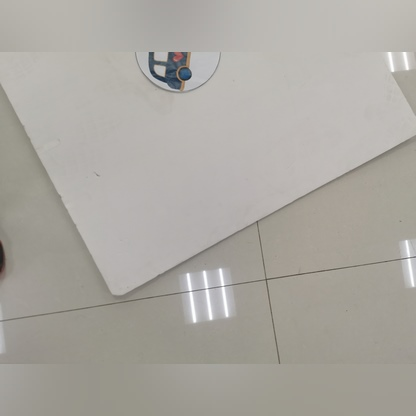car: (127, 51, 230, 83)
